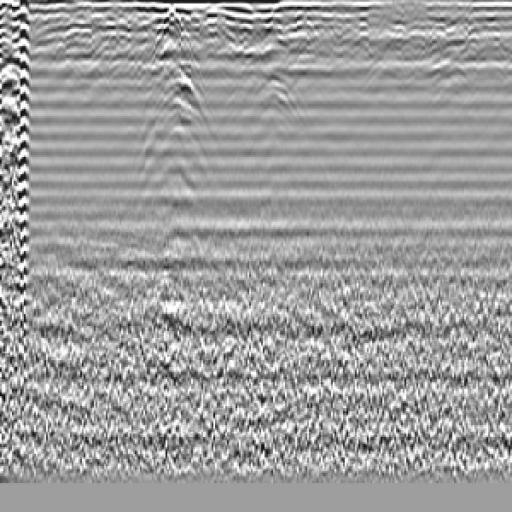metalic: (136, 31, 215, 187)
nonmetalic: (242, 52, 322, 162)
